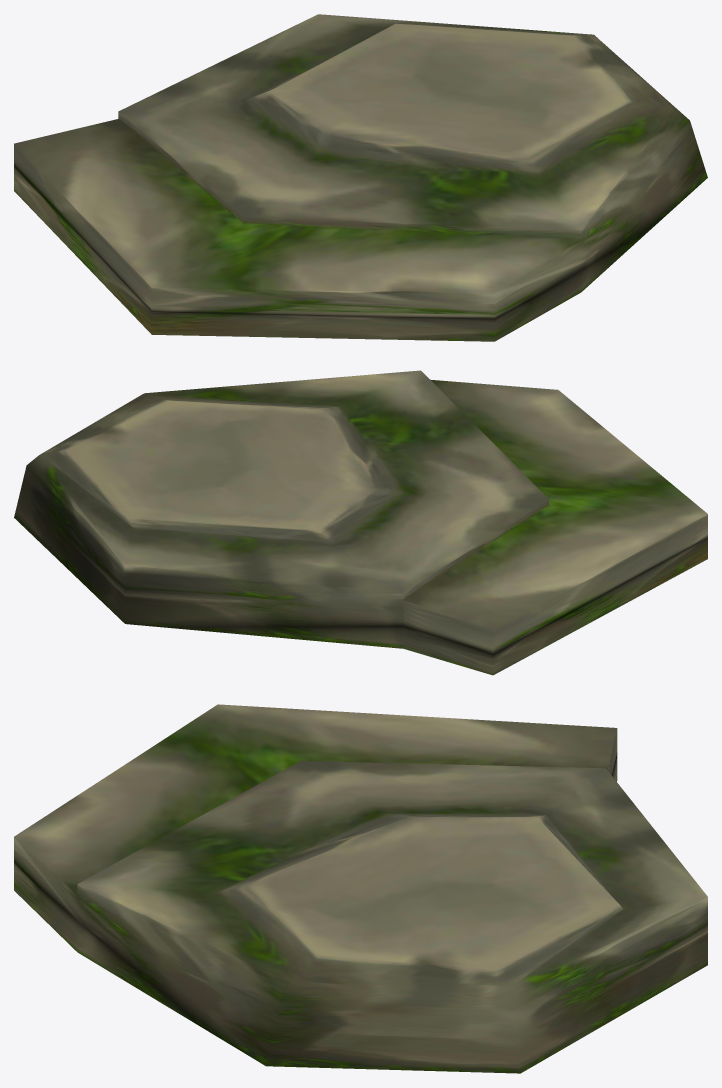
The model's file is RockFormation_4_5 (28).fbx.
3 renders of one model, top to bottom at view 1: azimuth 30°, elevation 25°; view 2: azimuth 150°, elevation 25°; view 3: azimuth 270°, elevation 25°, orthographic. The views are drawn at different scales.
Parts seen in each view (by area): view 1: RockFormation_4_5 (28); view 2: RockFormation_4_5 (28); view 3: RockFormation_4_5 (28).
Part boxes in pixels (x1=…): RockFormation_4_5 (28): x1=14, y1=14, x2=707, y2=341; RockFormation_4_5 (28): x1=14, y1=370, x2=707, y2=675; RockFormation_4_5 (28): x1=14, y1=704, x2=707, y2=1073.
Bounding box in the file's own units: 1012 × 119 × 936.
1 material, 1 textured.
